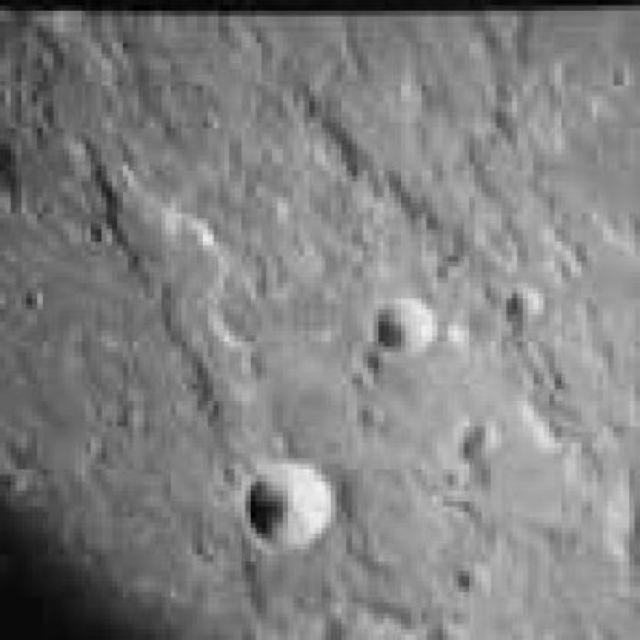crater: (244, 467, 341, 555), (371, 303, 432, 362)
